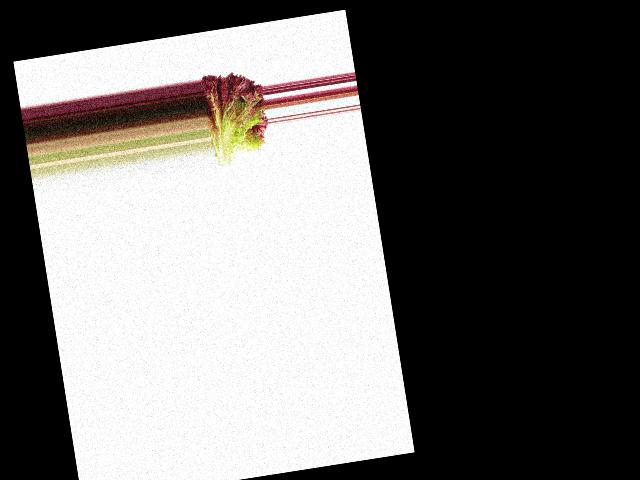lettuce: (199, 62, 272, 170)
